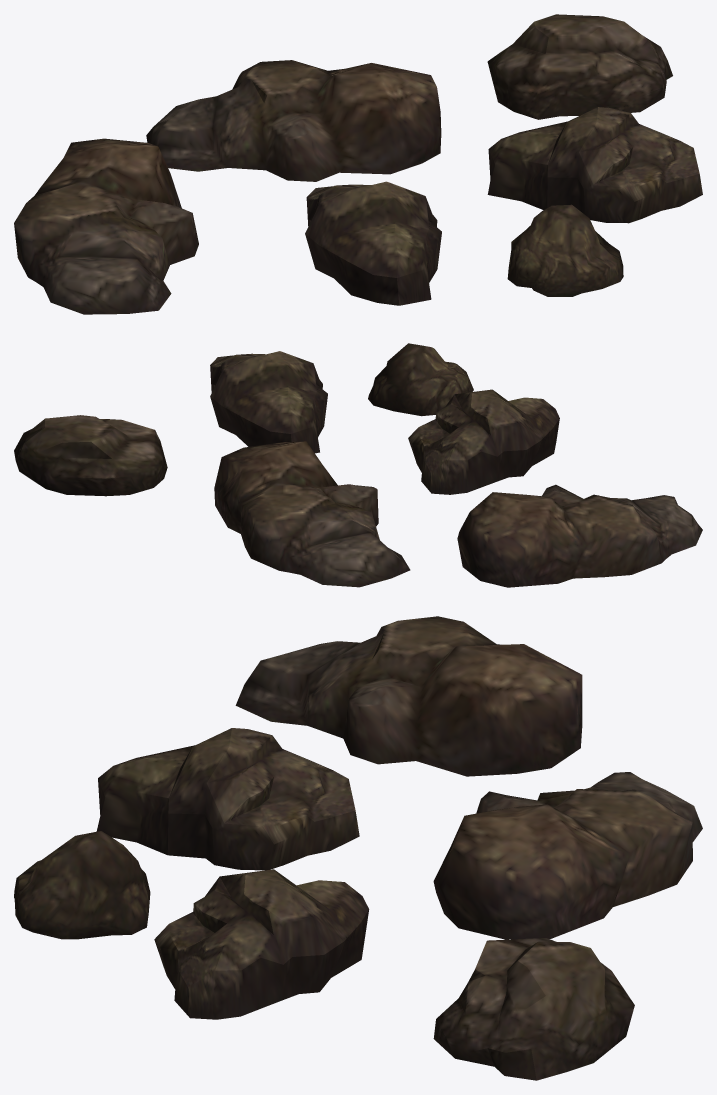
The model's file is s7_fightpve_rock3.FBX.
3 renders of one model, top to bottom at view 1: azimuth 30°, elevation 25°; view 2: azimuth 150°, elevation 25°; view 3: azimuth 270°, elevation 25°, orthographic. The views are drawn at different scales.
Visible parts, largest first — view 1: Plane25cvcv02222, Plane25cvcv0111, Box022222, Object01dfdfffff, Box011111, Object01dfdcvcvcvf011111; view 2: Plane25cvcv0111, Plane25cvcv02222, Box011111, Object01dfdfffff, Box022222, Object01dfdcvcvcvf011111; view 3: Plane25cvcv0111, Plane25cvcv02222, Box011111, Box022222, Object01dfdfffff, Object01dfdcvcvcvf011111.
Part boxes in pixels (bbox=[...]): Plane25cvcv02222: bbox=[146, 60, 441, 181]; Plane25cvcv0111: bbox=[14, 138, 198, 314]; Box022222: bbox=[487, 107, 702, 223]; Object01dfdfffff: bbox=[487, 14, 672, 119]; Box011111: bbox=[305, 181, 441, 305]; Object01dfdcvcvcvf011111: bbox=[507, 204, 623, 296]; Plane25cvcv0111: bbox=[457, 484, 702, 587]; Plane25cvcv02222: bbox=[214, 441, 410, 587]; Box011111: bbox=[408, 389, 559, 494]; Object01dfdfffff: bbox=[14, 415, 167, 496]; Box022222: bbox=[210, 351, 327, 453]; Object01dfdcvcvcvf011111: bbox=[368, 343, 473, 416]; Plane25cvcv0111: bbox=[235, 616, 582, 776]; Plane25cvcv02222: bbox=[433, 772, 702, 939]; Box011111: bbox=[96, 728, 359, 870]; Box022222: bbox=[154, 869, 369, 1019]; Object01dfdfffff: bbox=[433, 938, 634, 1080]; Object01dfdcvcvcvf011111: bbox=[14, 831, 150, 939].
Bounding box in the file's own units: 51.97 × 5.45 × 35.91.
